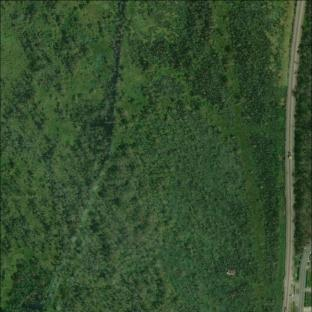Floresta: (294, 0, 312, 253)
